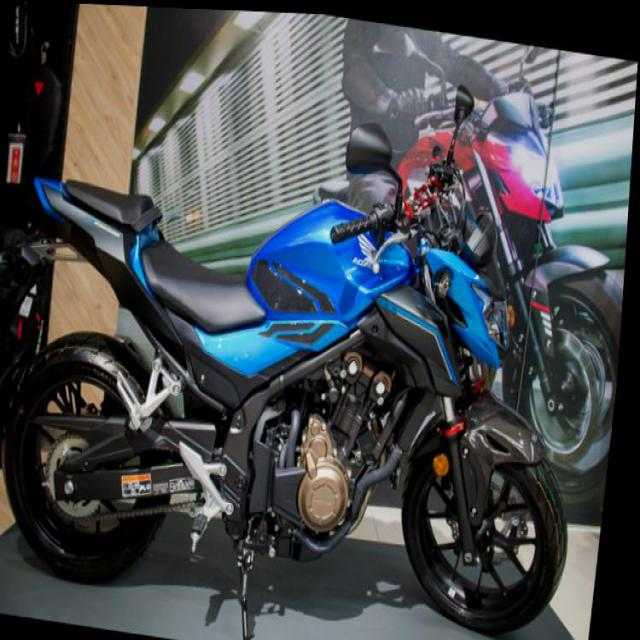CB500F: (0, 76, 617, 638)
